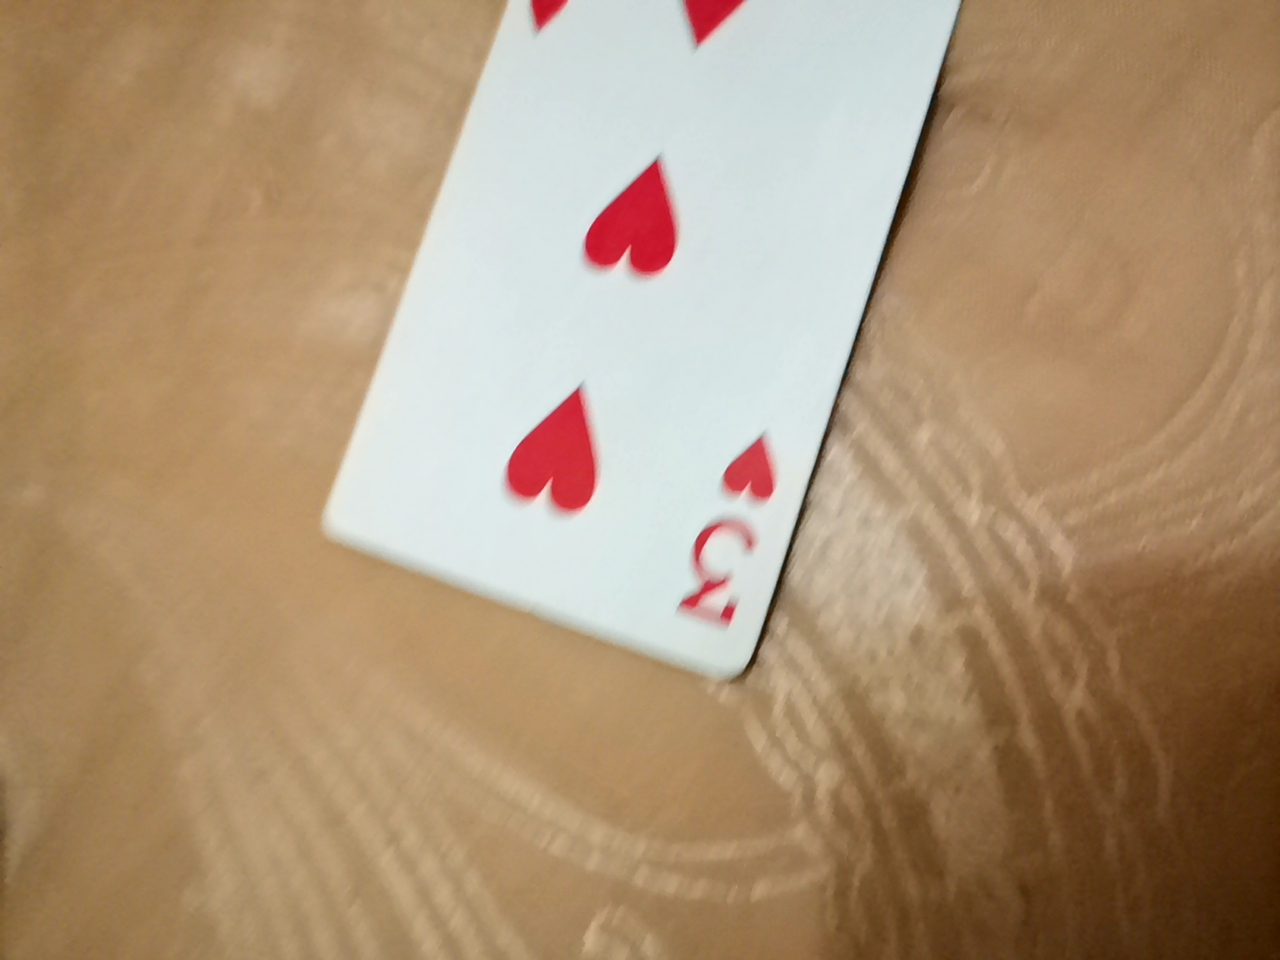hx 3: (347, 0, 1001, 677)
